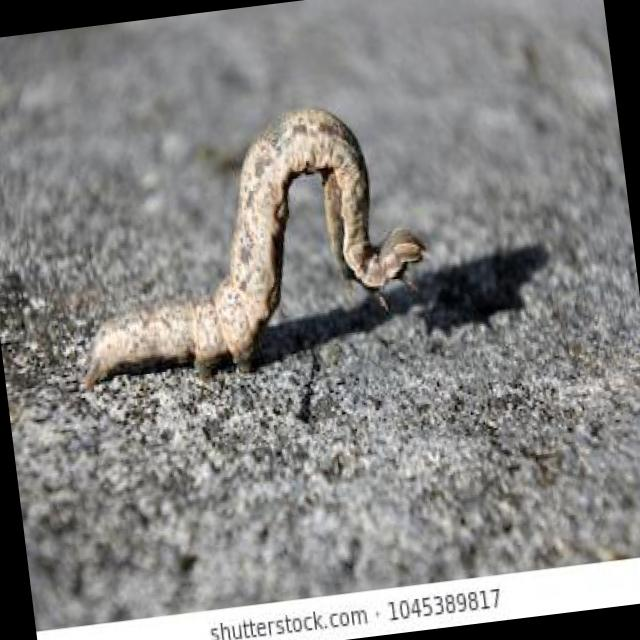armyworm: (48, 80, 459, 399)
